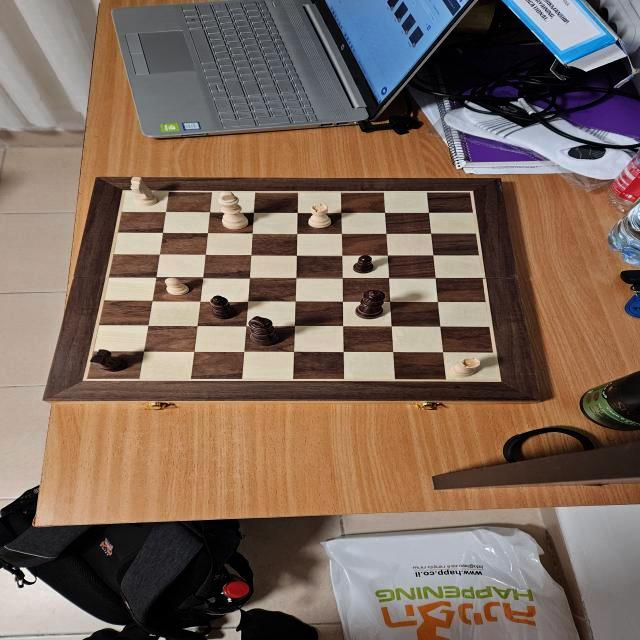chess-table-corners: (488, 374, 508, 387), (76, 374, 96, 384), (462, 187, 481, 197), (120, 187, 128, 195)
